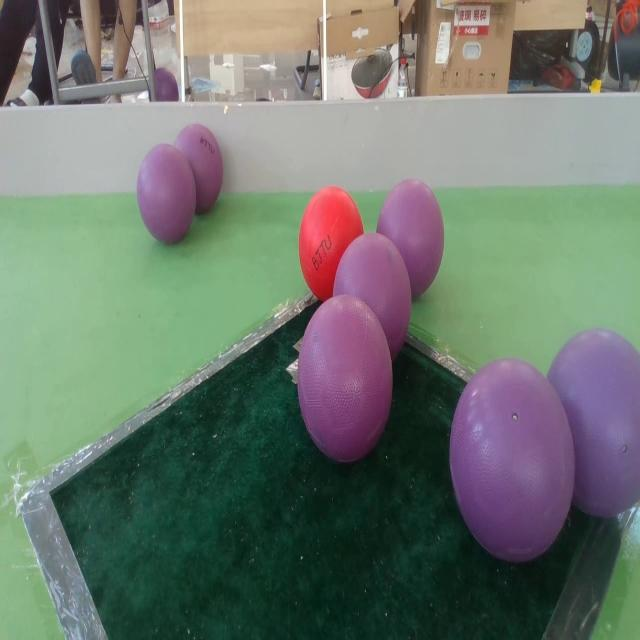invalid: (448, 357, 576, 559), (548, 328, 640, 516), (297, 293, 393, 464), (334, 232, 411, 367), (378, 176, 442, 297), (137, 144, 198, 242), (174, 125, 226, 218)
red: (299, 186, 363, 302)
